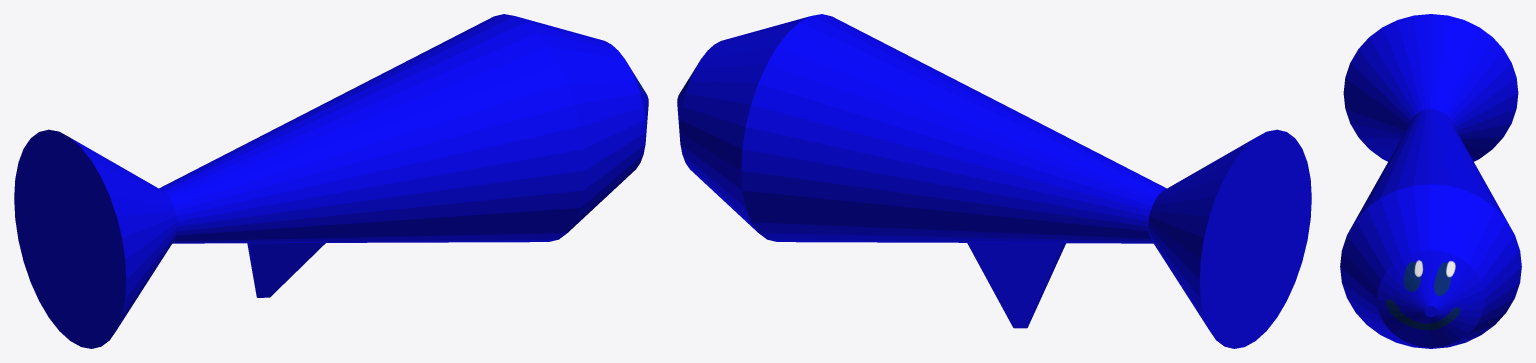
File: fishmon.glb
3 views of the same model, side by side, from view 1: azimuth 30°, elevation 25°; view 2: azimuth 150°, elevation 25°; view 3: azimuth 270°, elevation 25° (orthographic). The views are drawn at different scales.
Parts seen in each view (by area): view 1: Cylinder; view 2: Cylinder; view 3: Cylinder.
Part boxes in pixels (x1,y1,x2,y2): Cylinder: [14, 14, 648, 348]; Cylinder: [677, 14, 1311, 348]; Cylinder: [1340, 14, 1521, 348].
Bounding box in the file's own units: 5.69 × 2.2 × 2.
Materials: 1 (1 with a texture image).
